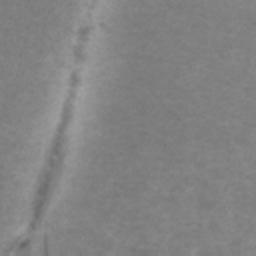Finishing roll printing: (12, 0, 98, 254)
